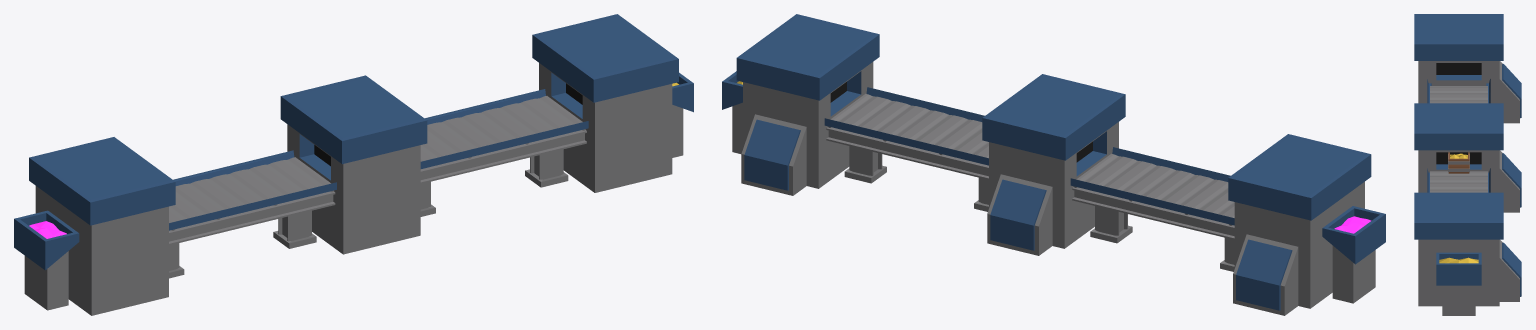
The model's file is conveyor.fbx.
3 views of the same model, side by side, from view 1: azimuth 30°, elevation 25°; view 2: azimuth 150°, elevation 25°; view 3: azimuth 270°, elevation 25° (orthographic). The views are drawn at different scales.
Parts seen in each view (by area): view 1: conveyor; view 2: conveyor; view 3: conveyor, gold_box.
Part boxes in pixels (x1=…): conveyor: x1=14, y1=14, x2=693, y2=315; conveyor: x1=722, y1=14, x2=1385, y2=315; conveyor: x1=1414, y1=14, x2=1521, y2=315; gold_box: x1=1448, y1=152, x2=1469, y2=173.
Size of the model in its own units: 1340 by 232 by 264.
